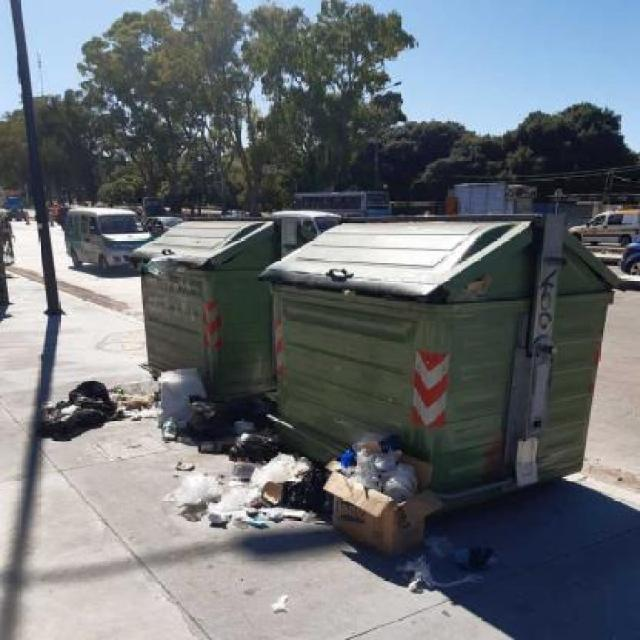garbage: (325, 440, 502, 582), (217, 406, 297, 523), (129, 383, 204, 429), (43, 397, 104, 430), (182, 471, 213, 505)
